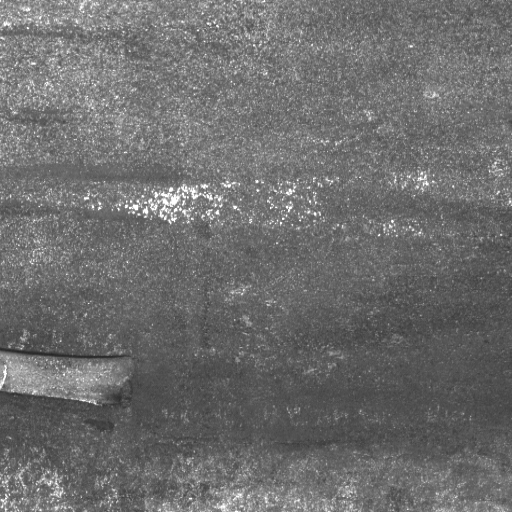qiaopi: (1, 344, 140, 408)
